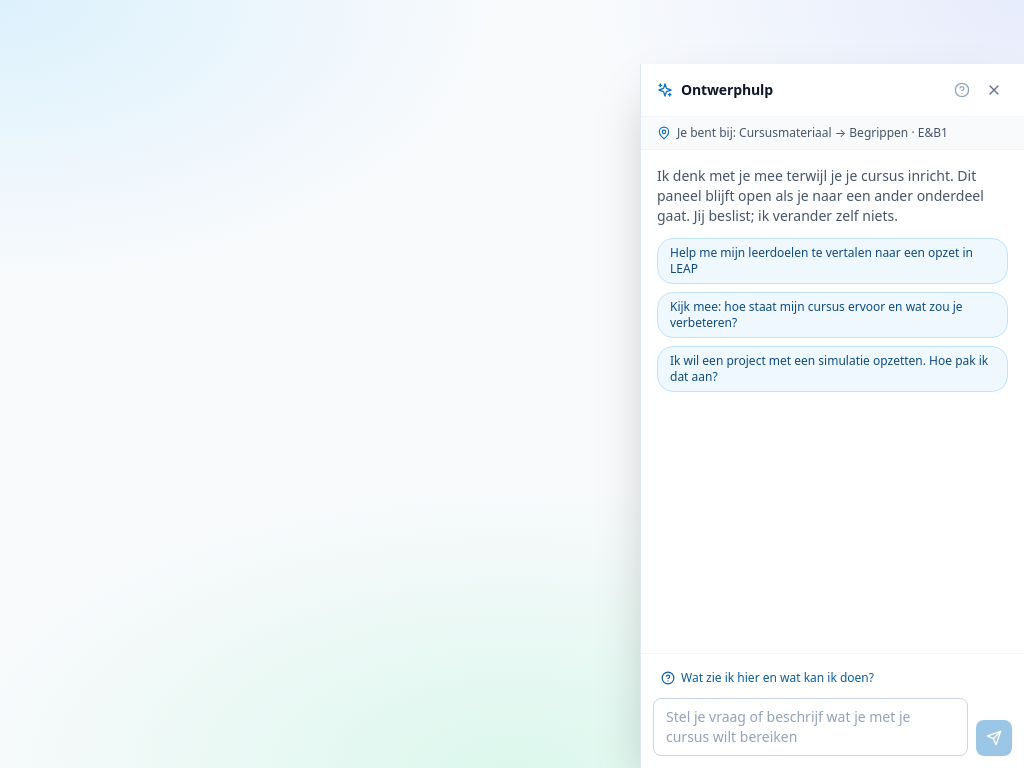
Test: Ontwerphulp als zijpaneel › toont waar je bent en stuurt die plek mee met "Wat zie ik hier?"
Expected: the element with test id "text-design-place" shows "Je bent bij: Cursusmateriaal → Begrippen", [677,124,908,141]
Click the button with test id "button-design-explain-here" at [768, 678], box [653,666,882,690]
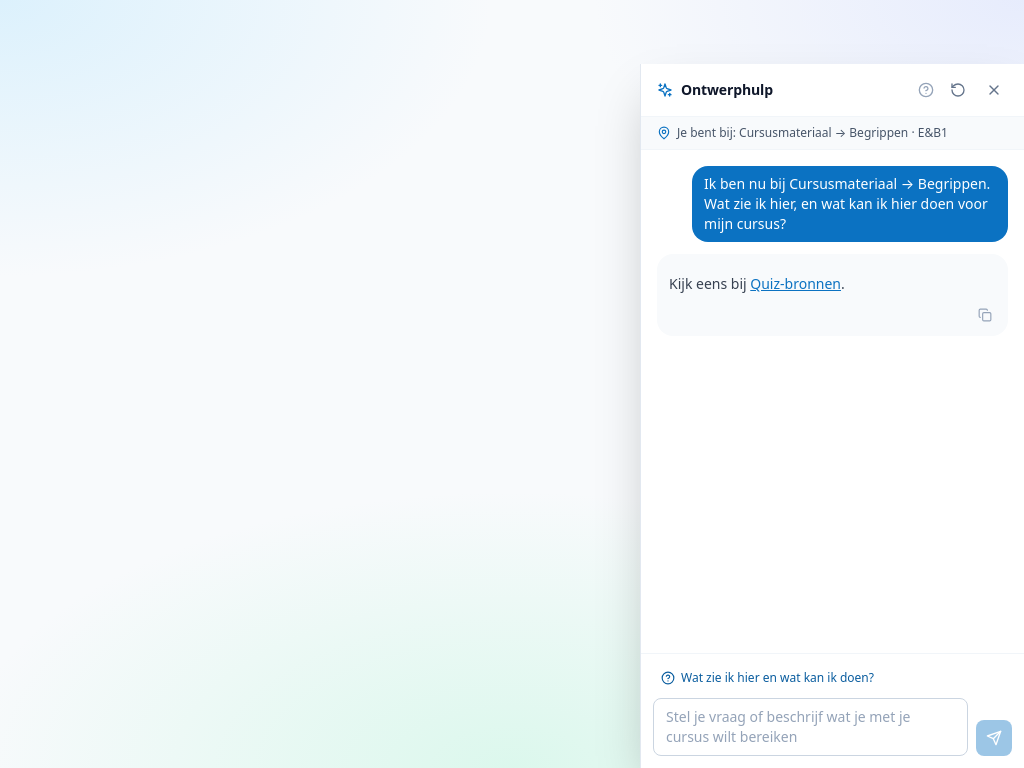
Expected: the element with test id "design-reply-1" is shown, [657,254,1008,336]
